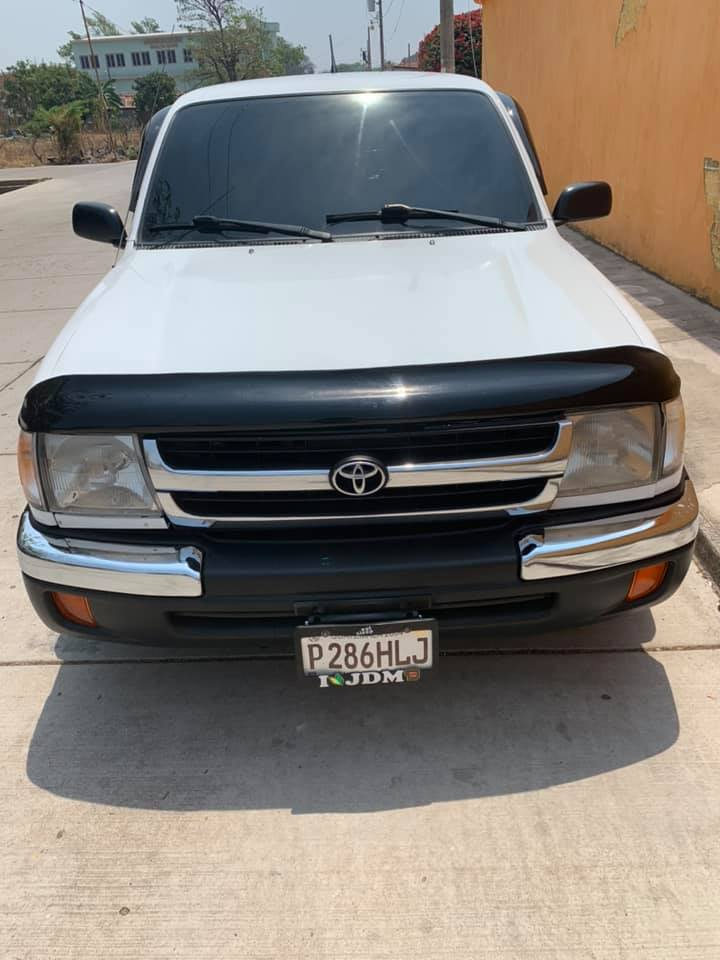pickup: (15, 76, 696, 673)
